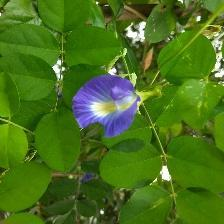shankupushpam: (72, 74, 146, 144)
